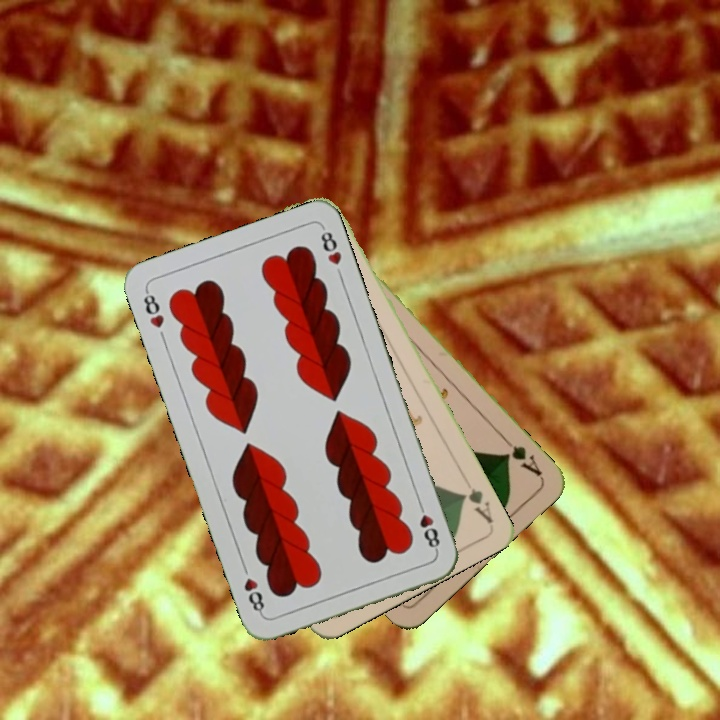GA: (499, 432, 545, 479), (457, 483, 496, 527)
H8: (413, 497, 443, 554), (139, 286, 167, 331)
